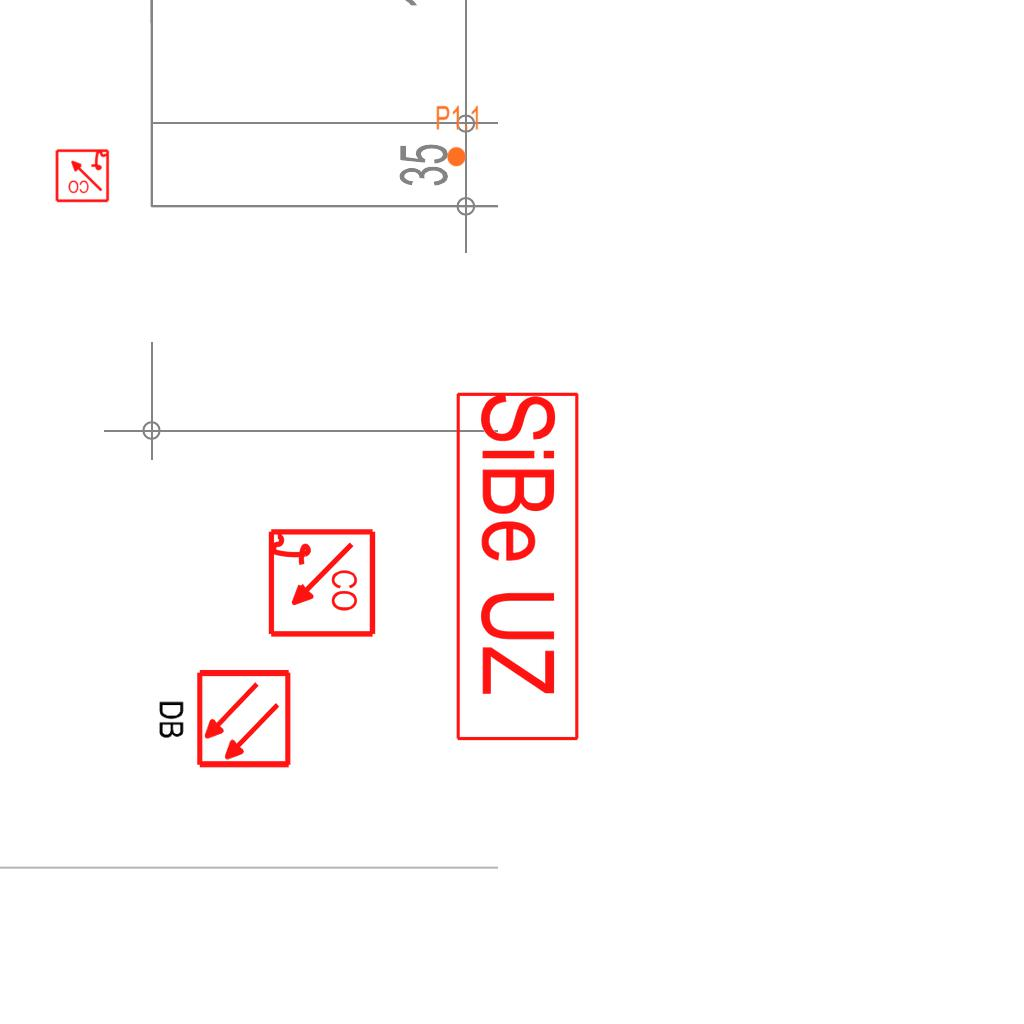DB_Melder_in_Doppelboden_mit_Revisionsoeffnung_mind_40_x_40_cm: (149, 663, 298, 777)
Downlight_LED_Einbauleuchten_Flur_2: (435, 104, 481, 168)
ROA_Rauchmelder_optisch_mit_Signalgeber_(Sockelsirene): (264, 527, 377, 640), (54, 147, 110, 203)
Zentrale_Sicherheitsbeleuchtung: (452, 389, 582, 746)
